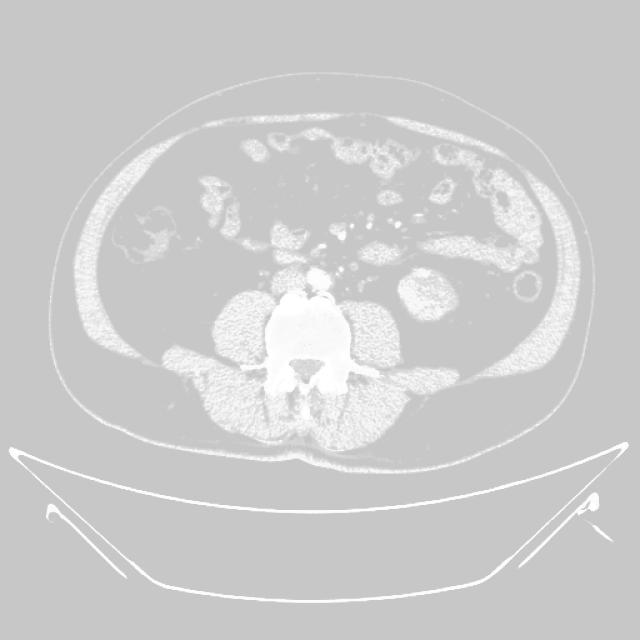TUMOR: (321, 238, 501, 344)
